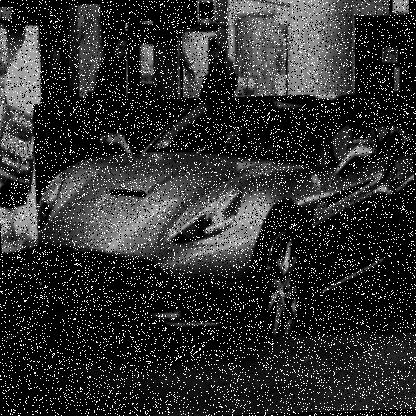Car: (32, 91, 415, 347)
